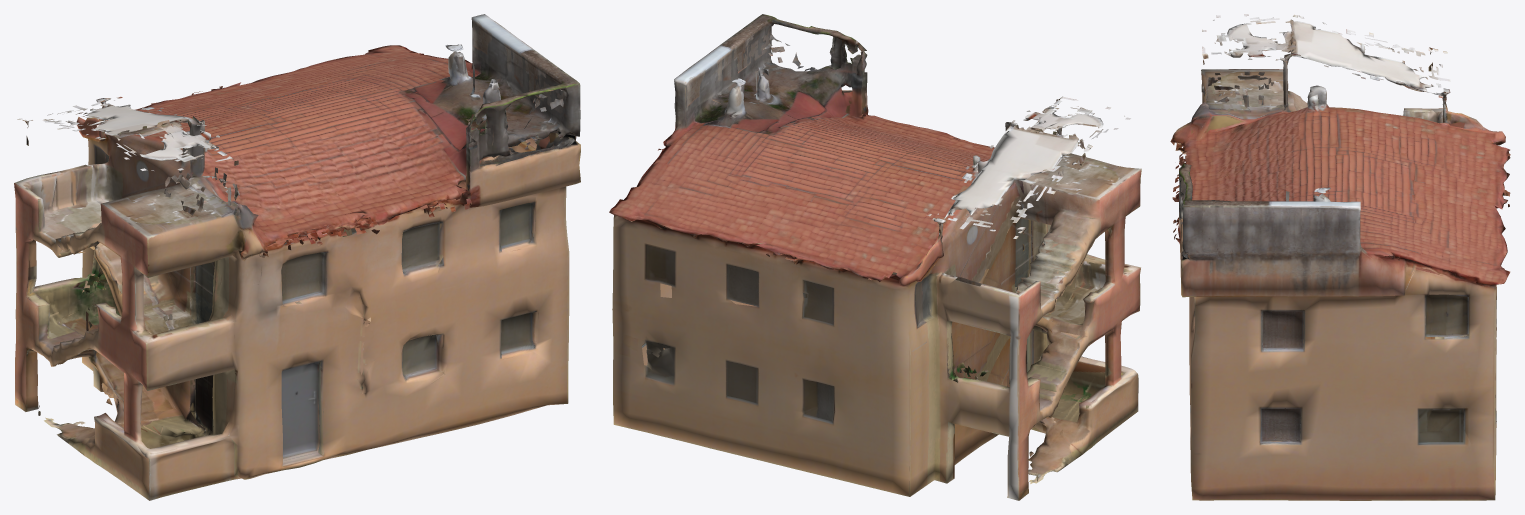
Rendered from Isolated_Apartment_Bu_0706221521_texture.fbx.
3 renders of one model, left to right at view 1: azimuth 30°, elevation 25°; view 2: azimuth 150°, elevation 25°; view 3: azimuth 270°, elevation 25°, orthographic. The views are drawn at different scales.
Parts seen in each view (by area): view 1: Mesh1; view 2: Mesh1; view 3: Mesh1.
Boxes of the visible parts, x1,y1,x2,y2 form: Mesh1: (14, 14, 580, 500); Mesh1: (609, 14, 1141, 500); Mesh1: (1170, 14, 1510, 500).
Size of the model in its own units: 200 by 149 by 151.
1 material, 1 textured.
